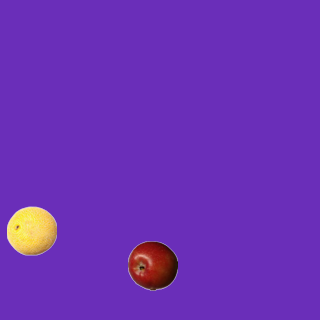Apple Braeburn: (127, 240, 177, 290)
Cantaloupe 1: (6, 205, 56, 255)
